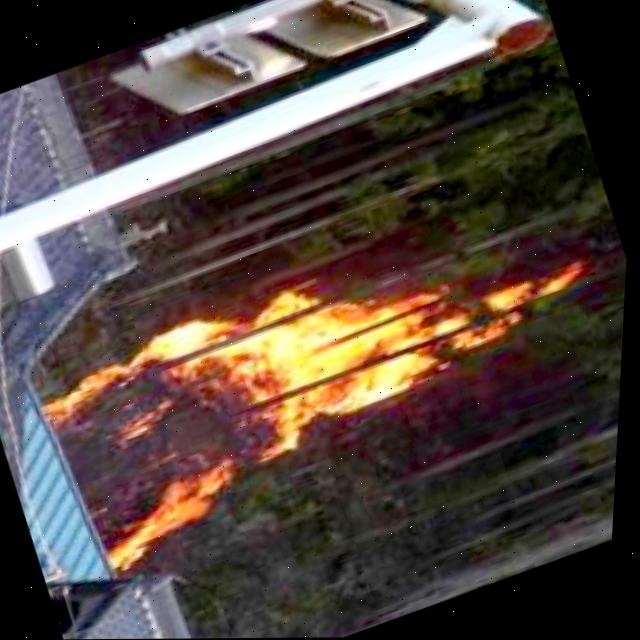Fire: (33, 189, 631, 569)
